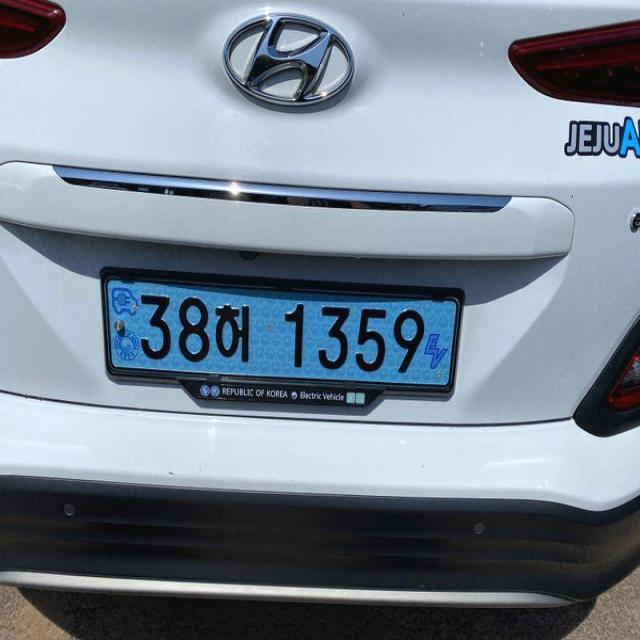EV_plate: (102, 267, 470, 420)
